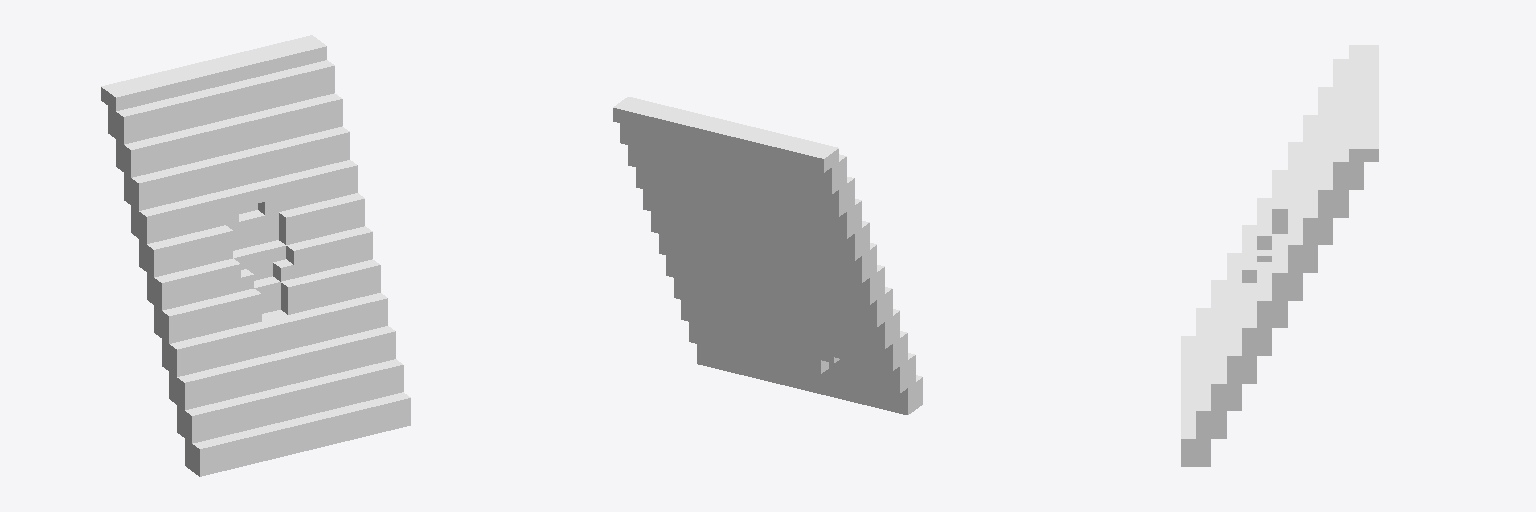
File: LockedDoor.obj
The picture shows the model from 3 angles: view 1: azimuth 30°, elevation 25°; view 2: azimuth 150°, elevation 25°; view 3: azimuth 270°, elevation 25°; orthographic projection.
Parts seen in each view (by area): view 1: object 1; view 2: object 1; view 3: object 1.
Part boxes in pixels (bbox=[...]): object 1: bbox=[101, 35, 410, 476]; object 1: bbox=[613, 97, 922, 414]; object 1: bbox=[1181, 45, 1378, 466].
Size of the model in its own units: 1.6 by 2.3 by 1.3.